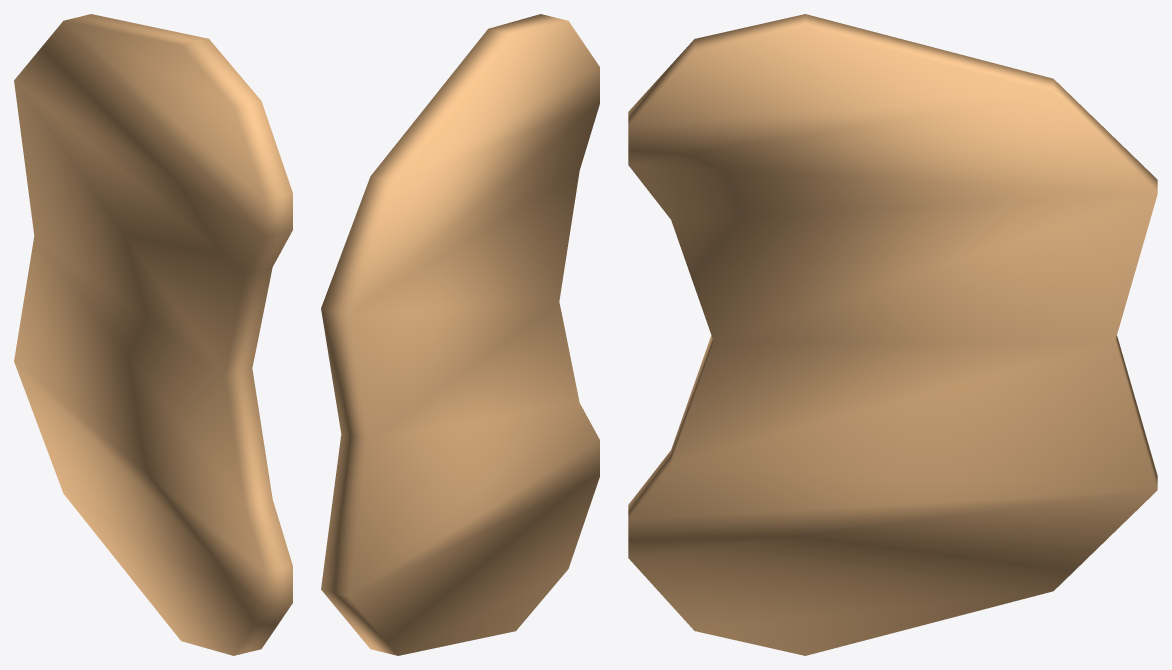
The model's file is half_apple_core.obj.
The picture shows the model from 3 angles, left to right: view 1: azimuth 30°, elevation 25°; view 2: azimuth 150°, elevation 25°; view 3: azimuth 270°, elevation 25°; orthographic projection. The views are drawn at different scales.
Parts seen in each view (by area): view 1: appleHalf.002; view 2: appleHalf.002; view 3: appleHalf.002.
Boxes of the visible parts, left/top/right/bottom form: appleHalf.002: left=14, top=14, right=292, bottom=655; appleHalf.002: left=321, top=14, right=599, bottom=655; appleHalf.002: left=628, top=14, right=1157, bottom=655.
Size of the model in its own units: 0.0079 by 0.1618 by 0.1237.
